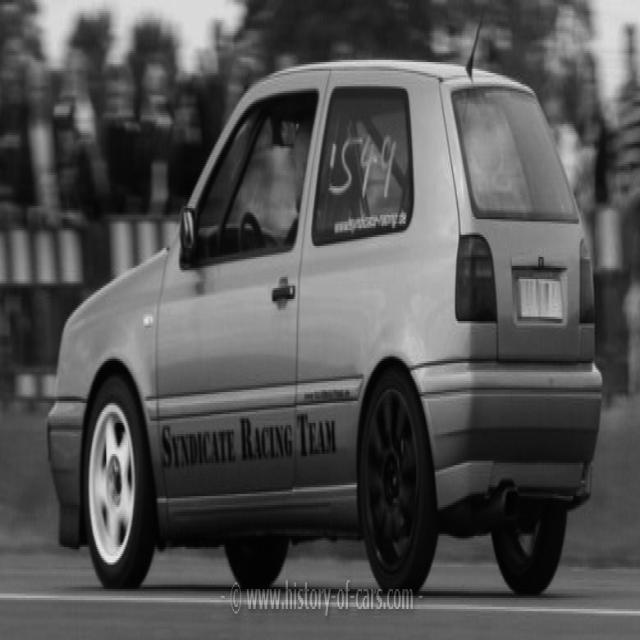car: (46, 22, 602, 598)
